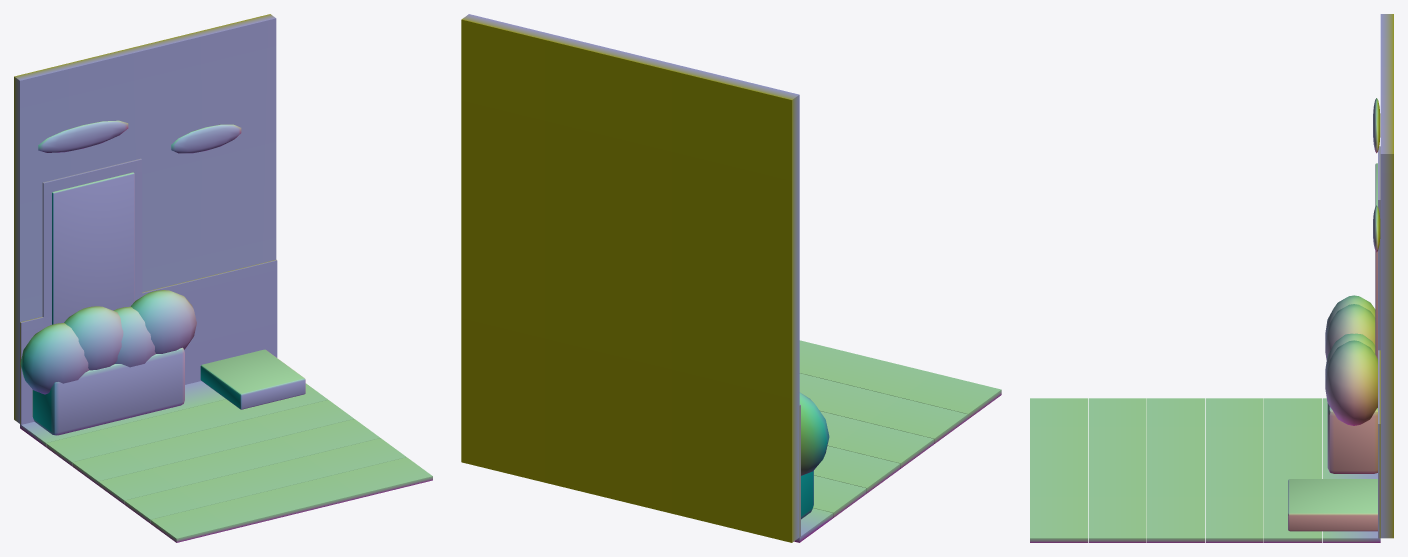
File: porch_arch.glb
The picture shows the model from 3 angles, left to right: view 1: azimuth 30°, elevation 25°; view 2: azimuth 150°, elevation 25°; view 3: azimuth 270°, elevation 25°; orthographic projection. The views are drawn at different scales.
Visible parts, largest first — view 1: porch_arch; view 2: porch_arch; view 3: porch_arch.
Boxes of the visible parts, left/top/right/bottom form: porch_arch: left=14, top=14, right=432, bottom=542; porch_arch: left=461, top=14, right=1001, bottom=542; porch_arch: left=1030, top=14, right=1393, bottom=542.
Bounding box in the file's own units: 2.59 × 3.24 × 2.75.
